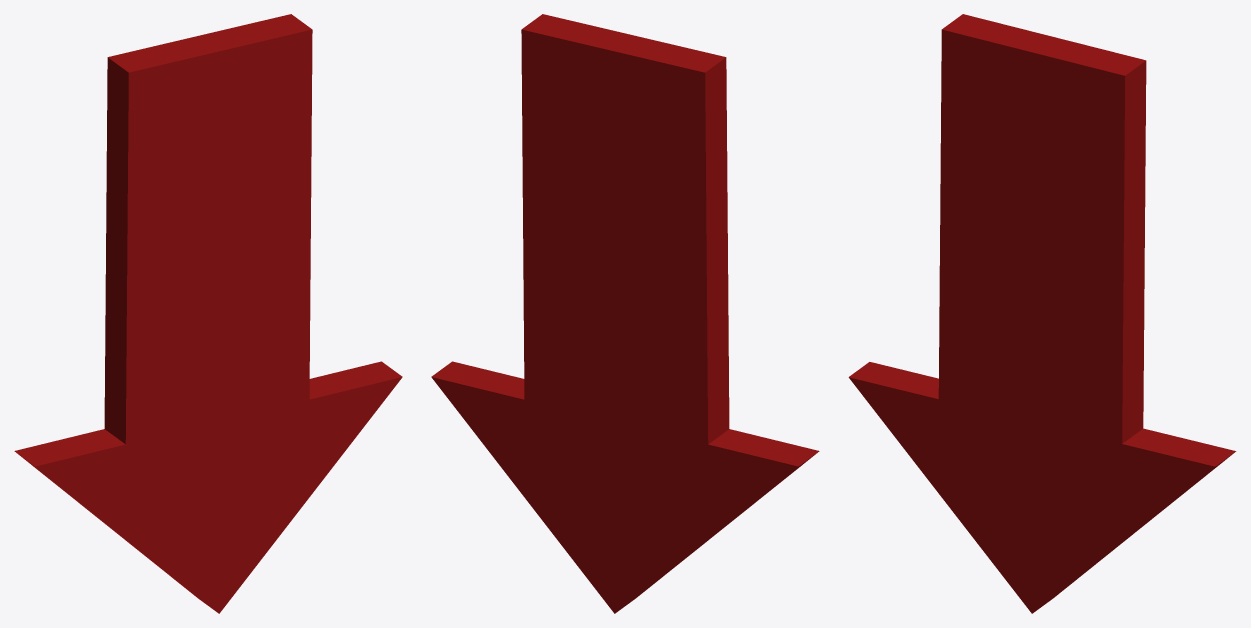
File: arrow.fbx
The picture shows the model from 3 angles, left to right: view 1: azimuth 30°, elevation 25°; view 2: azimuth 150°, elevation 25°; view 3: azimuth 330°, elevation 25°; orthographic projection.
Visible parts, largest first — view 1: Box, Box1; view 2: Box, Box1; view 3: Box, Box1.
Boxes of the visible parts, <box> form: Box: <box>104,14,312,457</box>; Box1: <box>14,361,402,613</box>; Box: <box>521,14,729,457</box>; Box1: <box>431,361,819,613</box>; Box: <box>938,14,1146,458</box>; Box1: <box>848,362,1236,613</box>.
Bounding box in the file's own units: 1 × 1.47 × 0.1.
